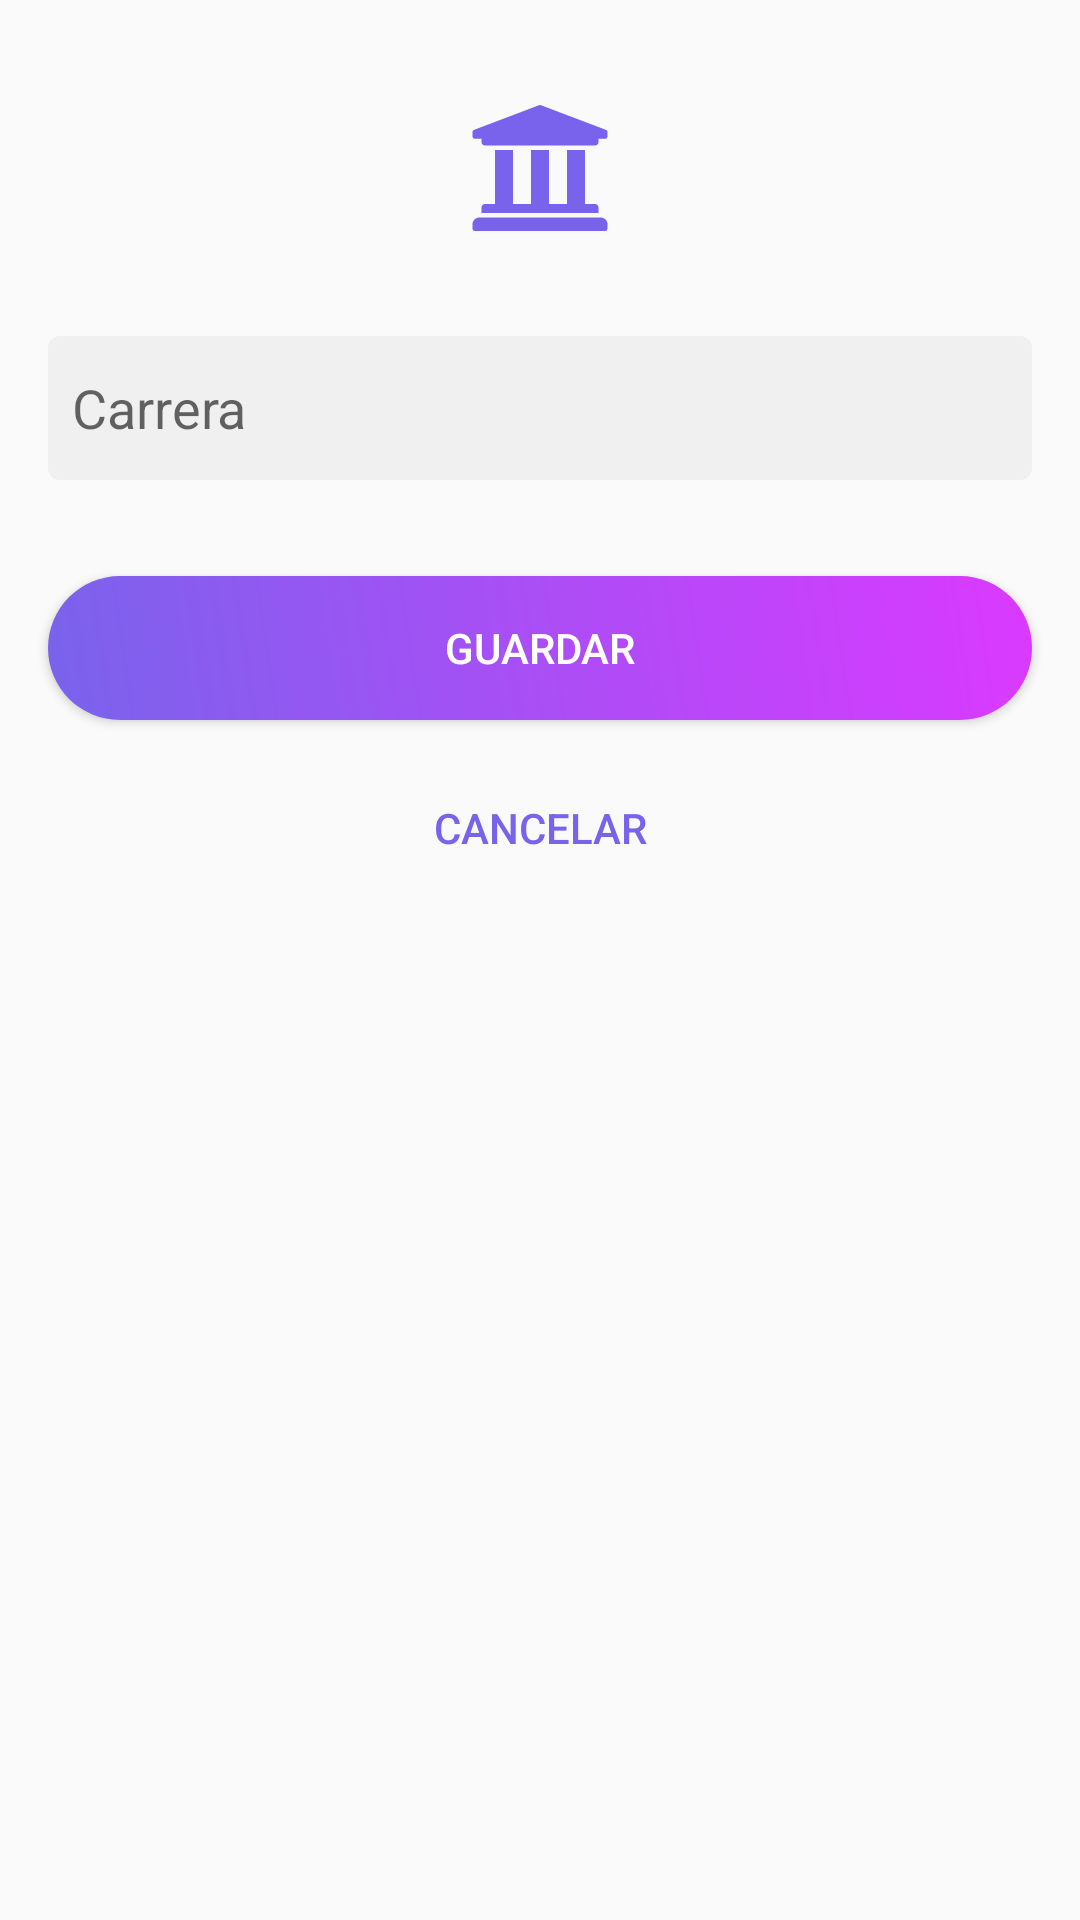

Screen size 1080×1920. Icon name, then its center in pixels as (x,y):
university: (540,168)
